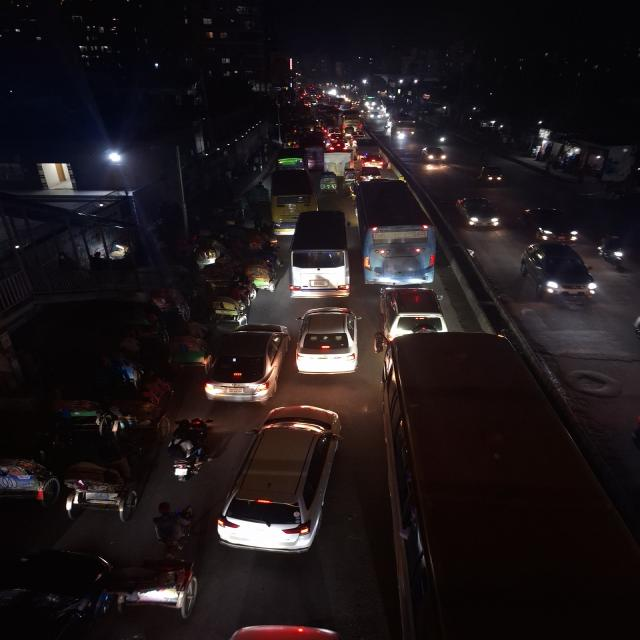bus: (383, 333, 639, 640), (353, 175, 438, 285), (538, 130, 640, 204), (272, 195, 315, 233), (388, 112, 417, 140)
car: (215, 406, 348, 558), (206, 322, 290, 406), (287, 208, 353, 300), (517, 240, 600, 303), (292, 304, 362, 378), (376, 284, 448, 332), (516, 204, 582, 242), (452, 193, 505, 233), (420, 144, 449, 168), (326, 132, 348, 152)
cng: (275, 145, 308, 169), (476, 163, 507, 187), (318, 168, 339, 194)
motorcycle: (164, 417, 213, 482), (150, 502, 196, 556), (595, 232, 630, 270)
pickup_van: (0, 543, 115, 640)
rickshaw: (111, 554, 206, 622), (61, 456, 147, 522), (40, 382, 113, 436), (152, 311, 213, 371), (108, 375, 174, 430), (0, 456, 59, 509), (198, 264, 252, 300), (206, 294, 250, 324), (247, 258, 277, 294)
truck: (351, 137, 386, 169)
